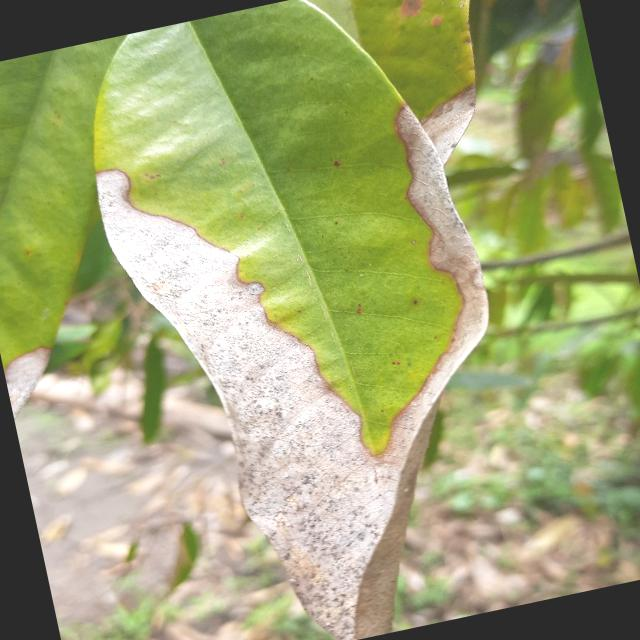Leaf Blight: (54, 0, 610, 639)
